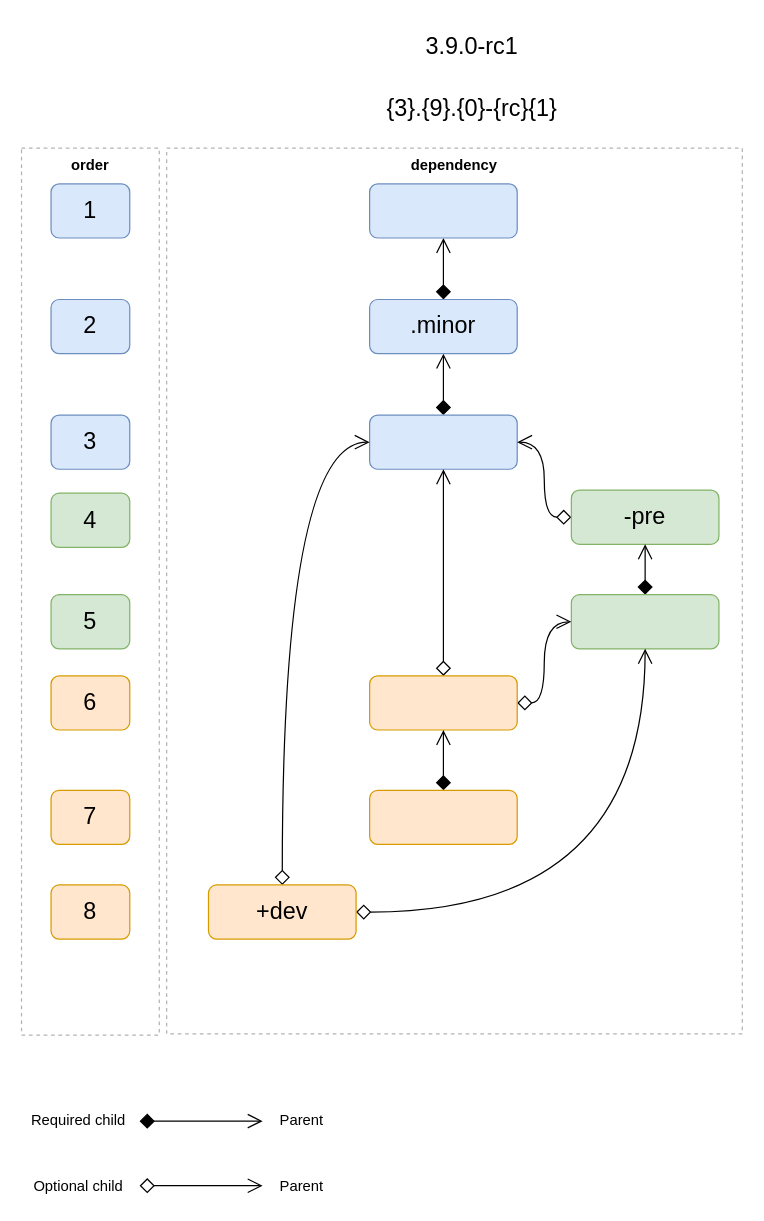
Image size: 764x1221. Some labels were removed from this diagram. The shapes that lost their labels are listed below. From the top down, each one's centre as x and y in pixels, then its label:
At pixel 442 210: "major".
At pixel 442 441: ".micro".
At pixel 644 621: ".prenum".
At pixel 442 702: "+build".
At pixel 442 816: ".buildnum".
